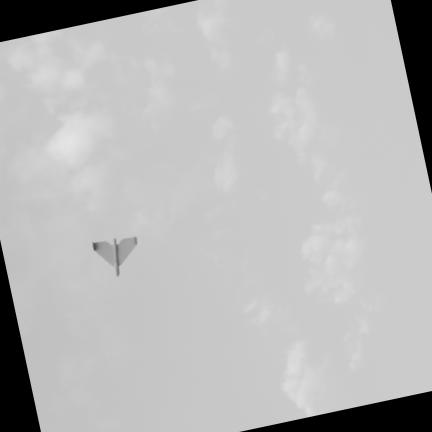Shahed: (92, 235, 138, 277)
